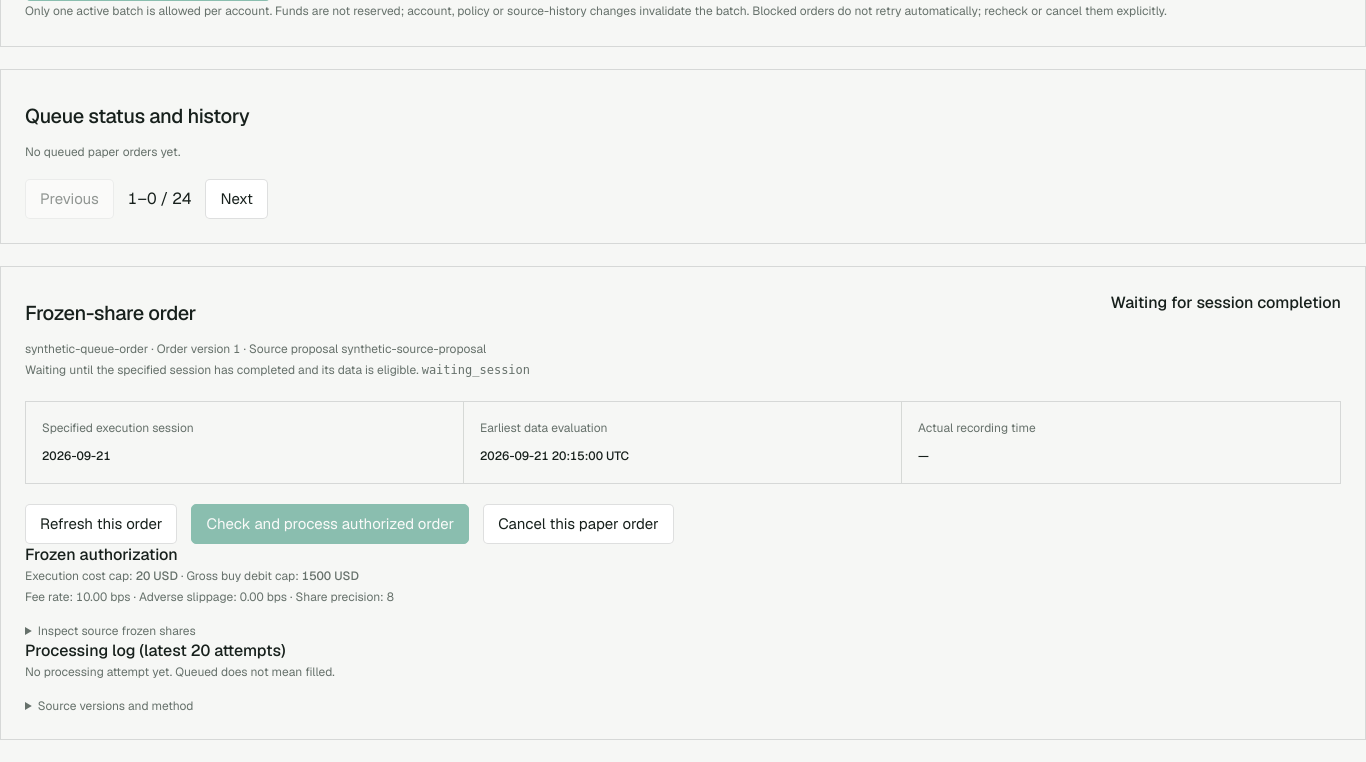
Test: next-open paper queue › opens an exact inbox order outside the listed page and cancels through its existing versioned action
(page scrolled)
Click the button "Cancel this paper order". click: x=578, y=524
box: [483,504,674,544]
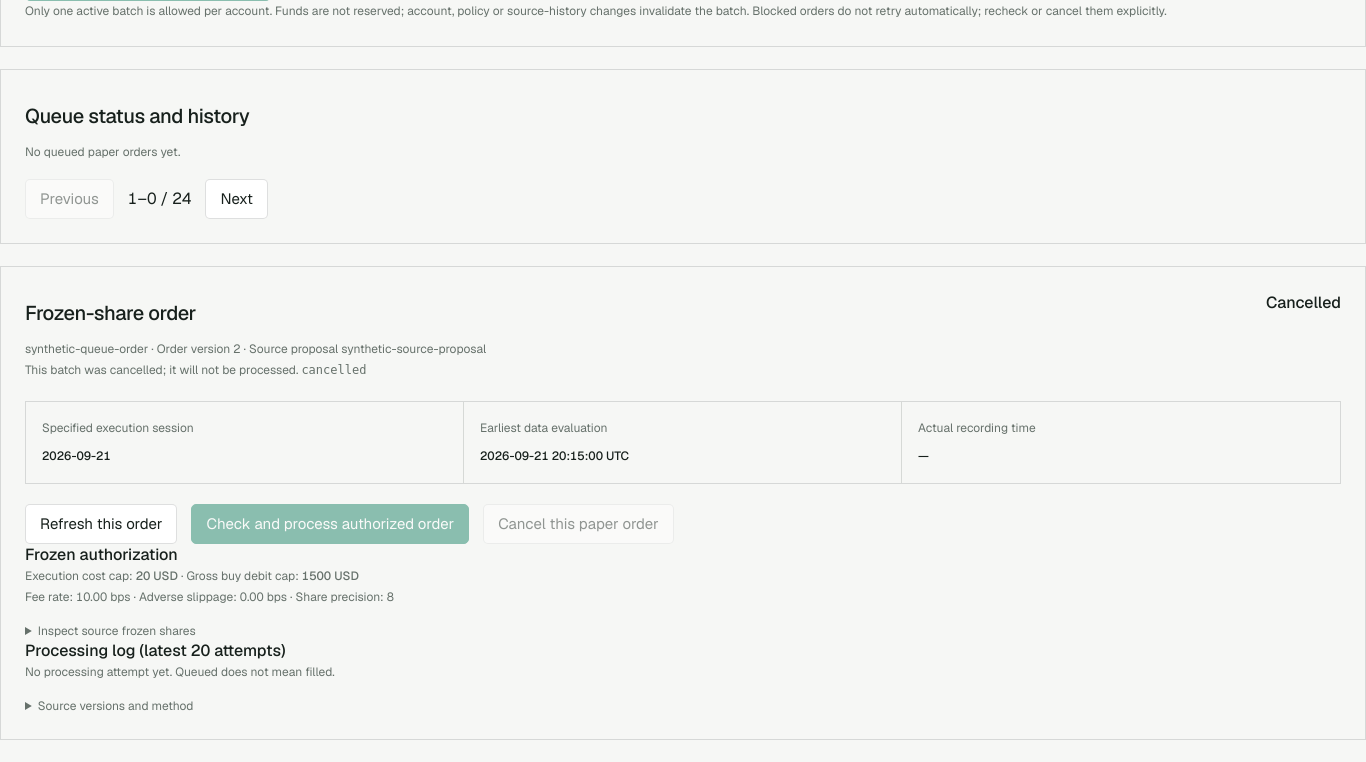
Check: the button "Cancel this paper order" is disabled, box [483,504,674,544]
Check: the text "Cancelled" is shown, box [1266,291,1341,315]
